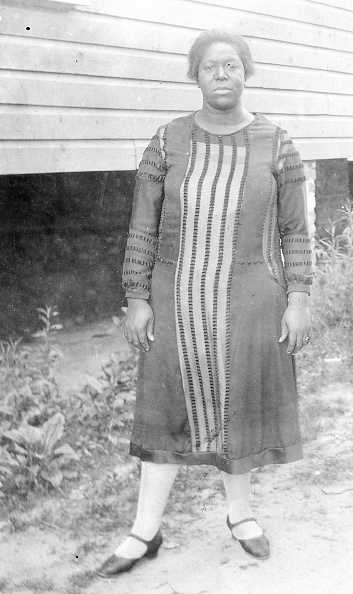em pe: (105, 13, 325, 514)
